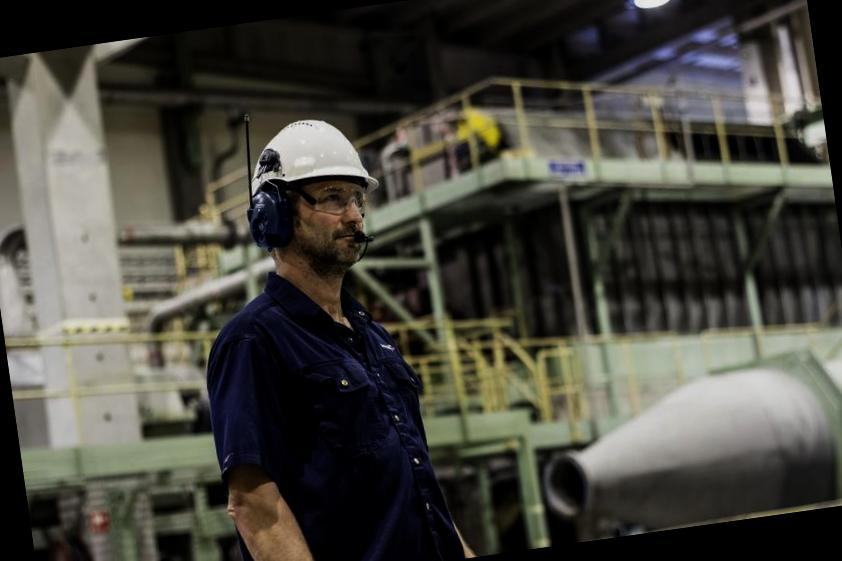helmet: (237, 108, 388, 216)
no_vest: (206, 254, 476, 561)
person: (173, 103, 471, 561)
